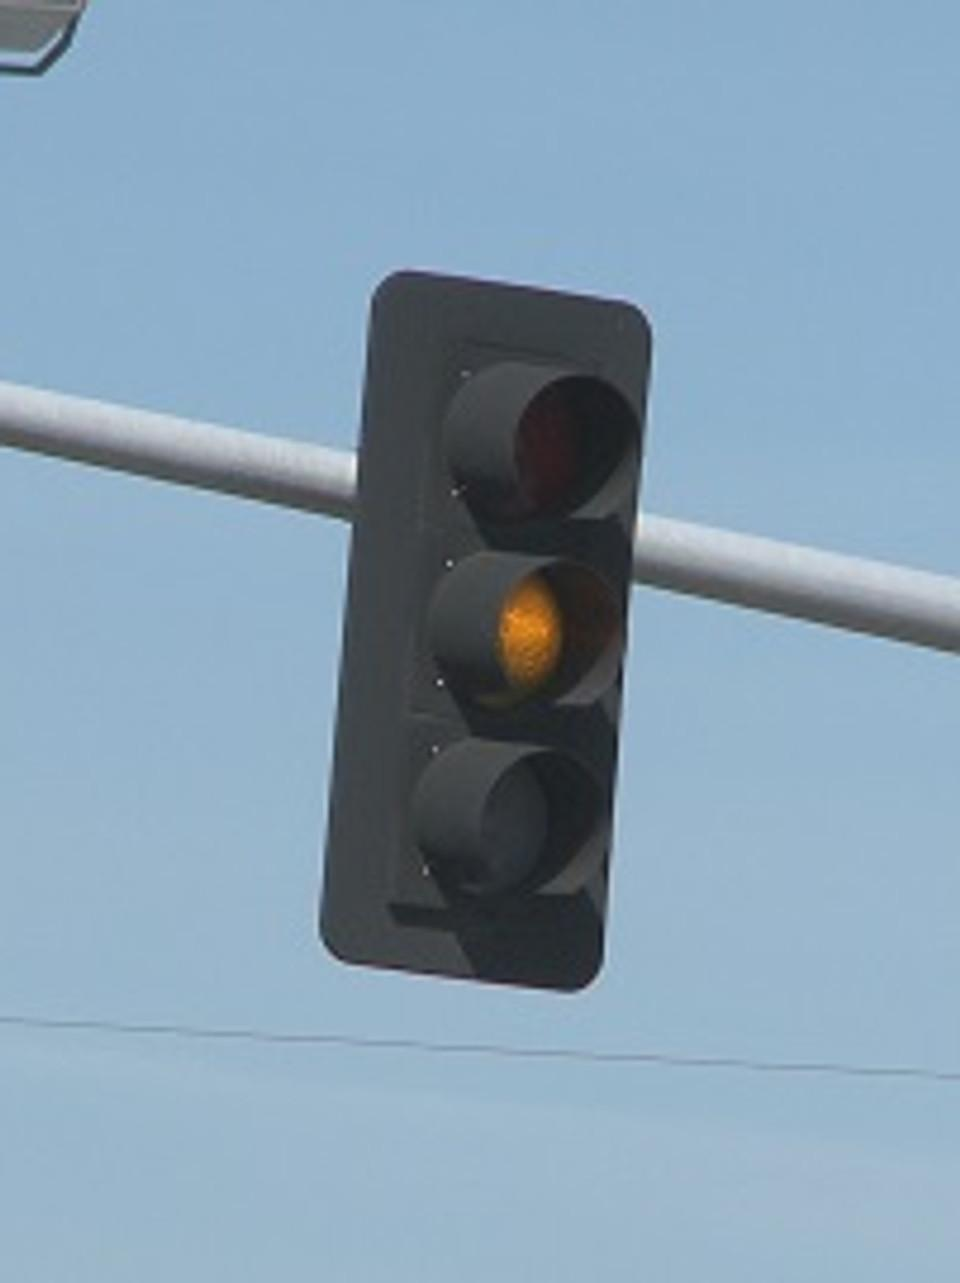yellow_light: (320, 270, 652, 992)
